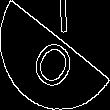O_NE: (27, 21, 83, 89)
